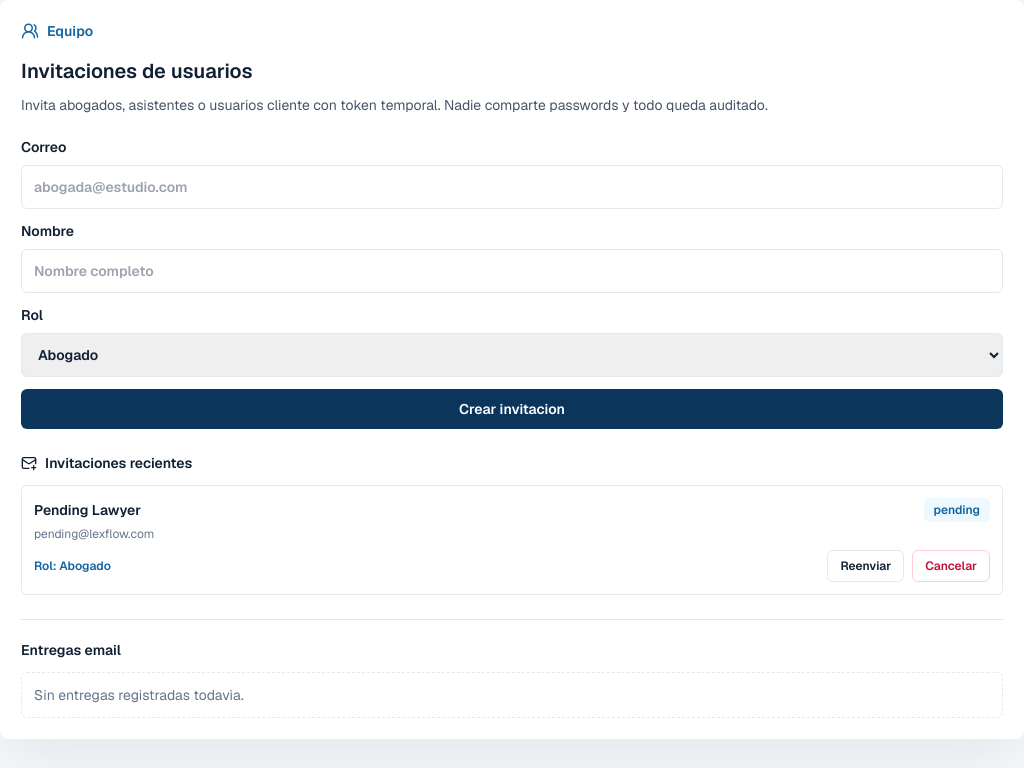
Scenario: UserInvitations › resends and cancels pending invitations
This screenshot has width=1024, height=768.
Expected: the text "Pending Lawyer" is shown, top-left (34, 500), bottom-right (141, 520)
What coordinates should you click on to do the following:
click the button "Reenviar"
I would click on:
 (866, 566)
Its box is top-left (827, 550), bottom-right (904, 582).
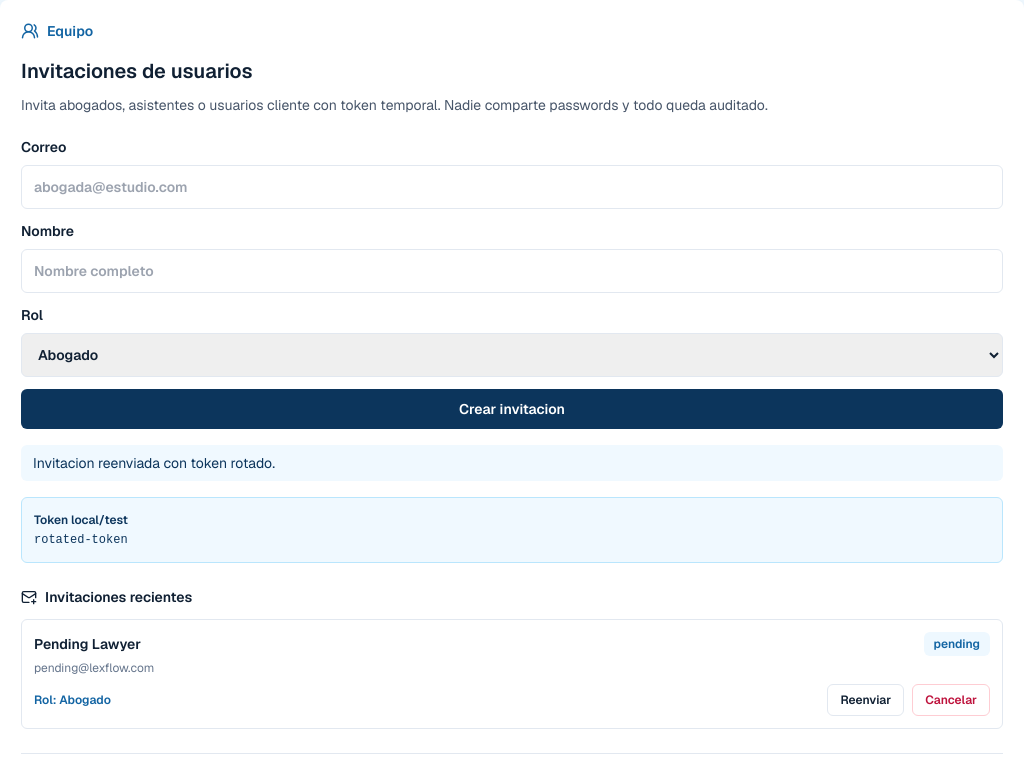
Now the text "Invitacion reenviada con token rotado." is shown, box top-left (21, 445), bottom-right (1003, 481)
Now the text "rotated-token" is shown, box top-left (34, 533), bottom-right (128, 547)
What coordinates should you click on to do the following:
click the button "Cancelar"
I would click on:
 (951, 700)
Its box is top-left (912, 684), bottom-right (990, 716).
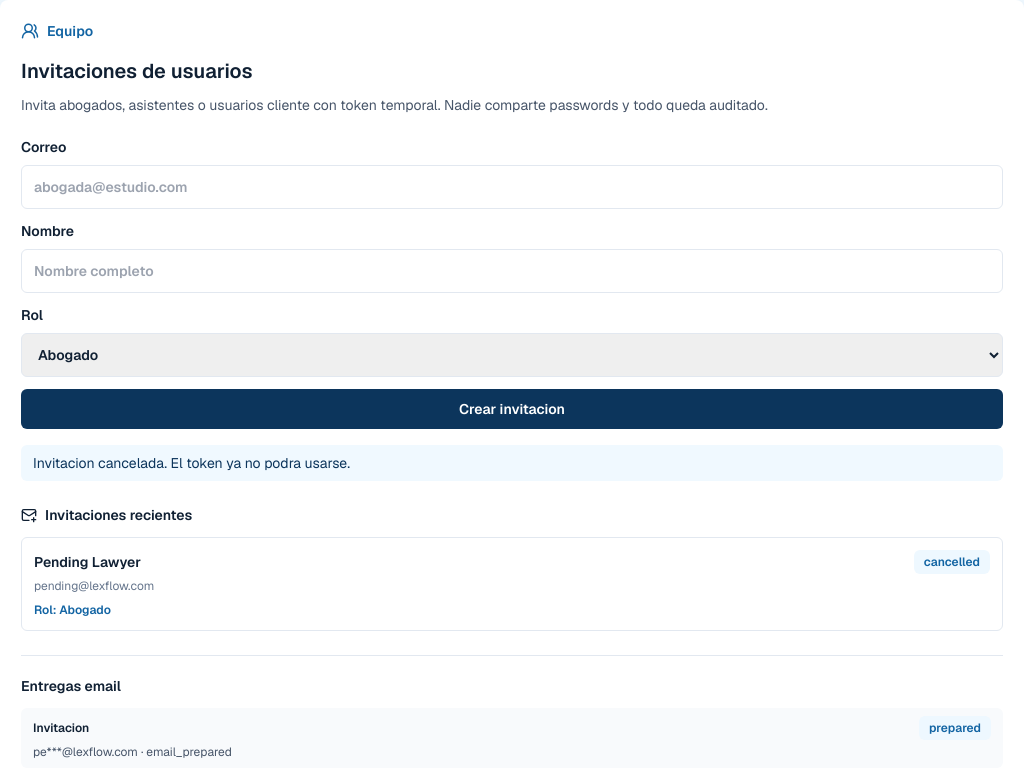
Now the text "Invitacion cancelada. El token ya no podra usarse." is shown, box top-left (21, 445), bottom-right (1003, 481)
